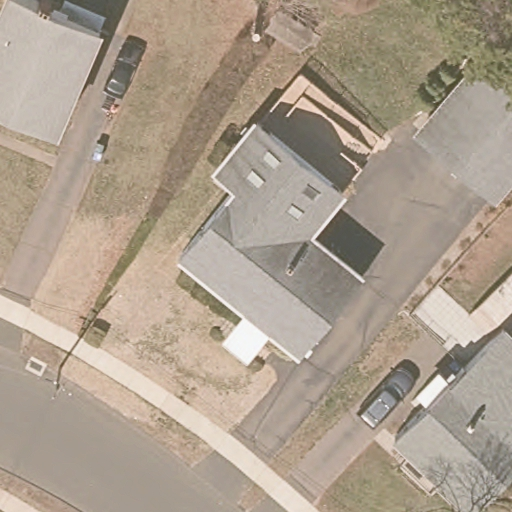DT: (44, 363, 70, 401)
